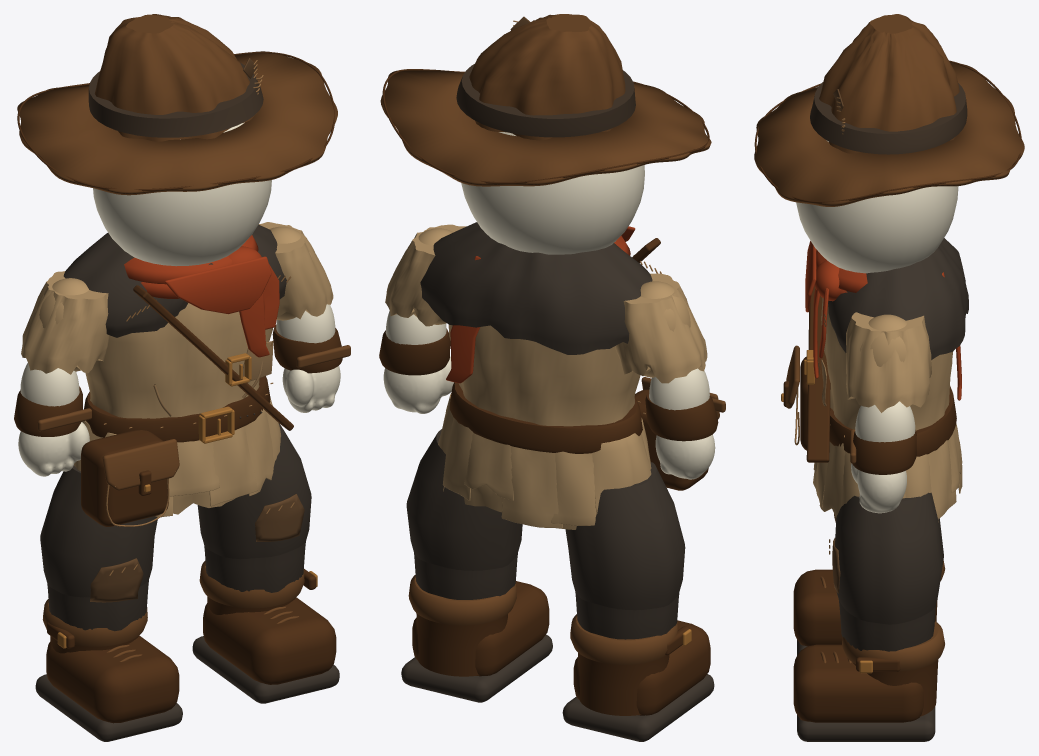
Rendered from Traveler.fbx.
The picture shows the model from 3 angles, left to right: view 1: azimuth 30°, elevation 25°; view 2: azimuth 150°, elevation 25°; view 3: azimuth 270°, elevation 25°; orthographic projection. The views are drawn at different scales.
Parts seen in each view (by area): view 1: HatBrim, Tunic, Face, BootToeL, BootToeR, Belt, ScarfLowerFold, TrousersUpperL, UpperArmL, TrousersUpperR, TrousersLowerR, ShoulderCape (+21 smaller); view 2: HatBrim, Tunic, ShoulderCape, TrousersUpperL, Face, TrousersUpperR, BootToeL, BootToeR, UpperArmL, TrousersLowerL, TrousersLowerR, Belt (+12 smaller); view 3: HatBrim, TrousersUpperR, Face, BootToeR, Tunic, ShoulderCape, UpperArmR, TrousersLowerR, HatBand, BootToeL, ScarfLowerFold, Belt (+7 smaller).
Boxes of the visible parts, left/top/right/bottom form: HatBrim: left=17, top=14, right=337, bottom=195; Tunic: left=74, top=303, right=280, bottom=517; Face: left=93, top=122, right=271, bottom=266; BootToeL: left=46, top=622, right=179, bottom=723; BootToeR: left=203, top=569, right=336, bottom=684; Belt: left=81, top=376, right=270, bottom=526; ScarfLowerFold: left=124, top=235, right=279, bottom=357; TrousersUpperL: left=40, top=465, right=157, bottom=597; UpperArmL: left=21, top=271, right=109, bottom=374; TrousersUpperR: left=197, top=423, right=311, bottom=559; TrousersLowerR: left=192, top=541, right=339, bottom=703; ShoulderCape: left=63, top=224, right=286, bottom=337; HatBrim: left=380, top=14, right=711, bottom=186; Tunic: left=438, top=325, right=651, bottom=529; ShoulderCape: left=420, top=222, right=652, bottom=354; TrousersUpperL: left=565, top=462, right=685, bottom=610; Face: left=461, top=132, right=644, bottom=254; TrousersUpperR: left=406, top=429, right=522, bottom=570; BootToeL: left=573, top=620, right=710, bottom=715; BootToeR: left=412, top=581, right=549, bottom=676; UpperArmL: left=615, top=273, right=707, bottom=383; TrousersLowerL: left=562, top=592, right=714, bottom=741; TrousersLowerR: left=401, top=553, right=552, bottom=702; Belt: left=449, top=382, right=708, bottom=490; HatBrim: left=754, top=14, right=1024, bottom=206; TrousersUpperR: left=835, top=492, right=943, bottom=624; Face: left=796, top=140, right=958, bottom=273; BootToeR: left=793, top=644, right=938, bottom=722; Tunic: left=813, top=298, right=962, bottom=522; ShoulderCape: left=828, top=238, right=968, bottom=359; UpperArmR: left=846, top=312, right=931, bottom=412; TrousersLowerR: left=797, top=599, right=935, bottom=741; HatBand: left=810, top=82, right=967, bottom=154; BootToeL: left=793, top=569, right=937, bottom=646; ScarfLowerFold: left=805, top=241, right=961, bottom=400; Belt: left=783, top=356, right=956, bottom=456.
Size of the model in its own units: 106 by 210 by 79.12.
